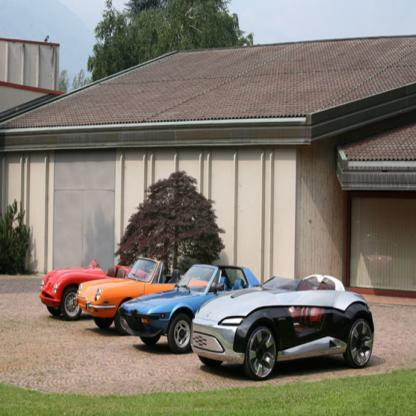Car: (38, 252, 387, 399)
